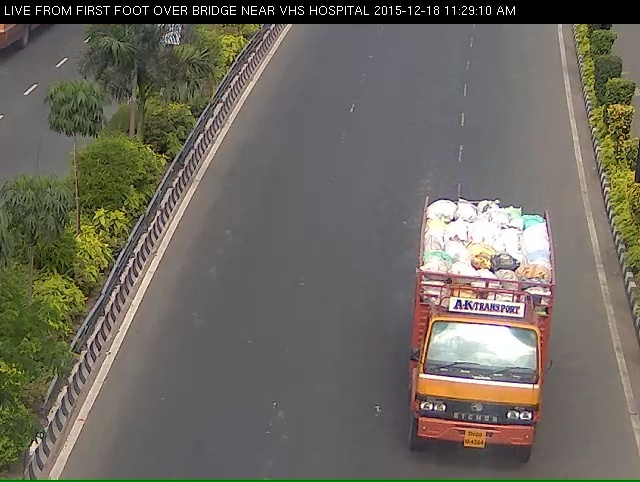Bus: (398, 202, 554, 474)
